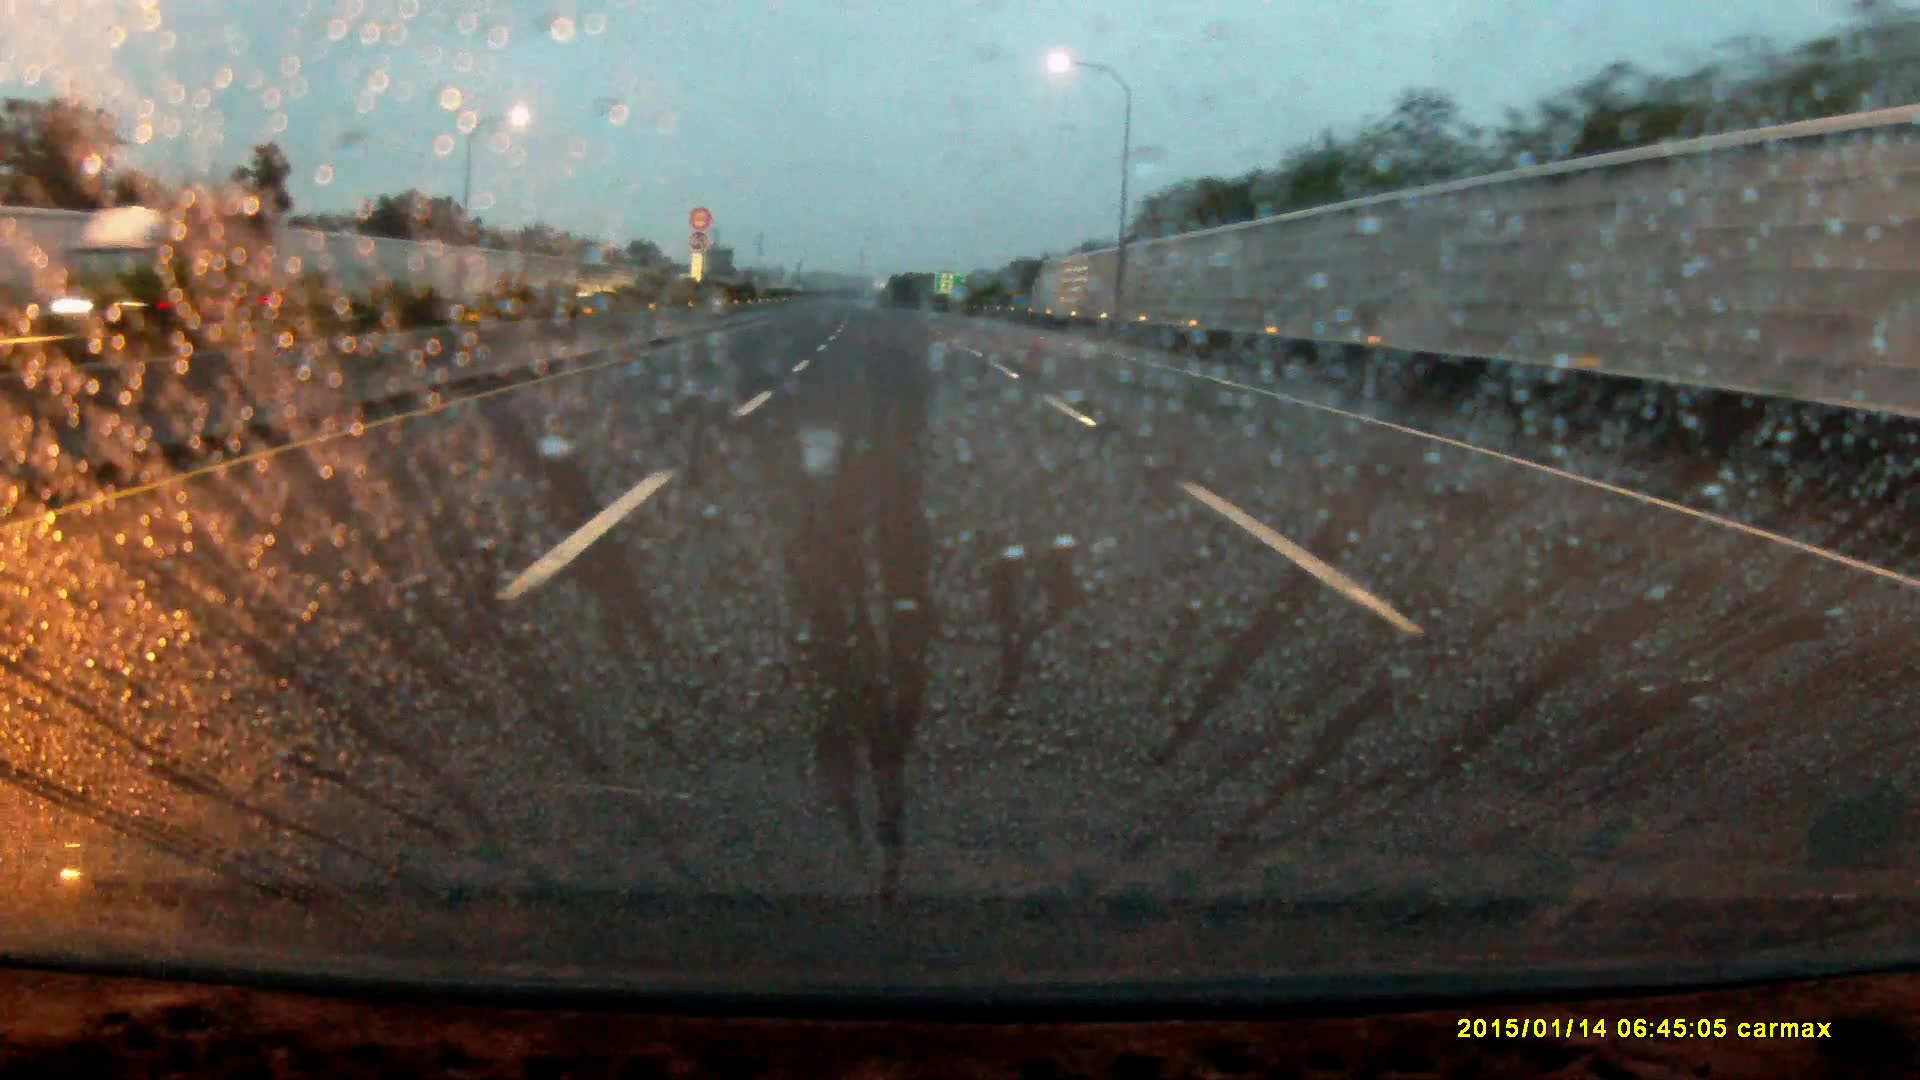vehicle: (55, 204, 256, 335)
